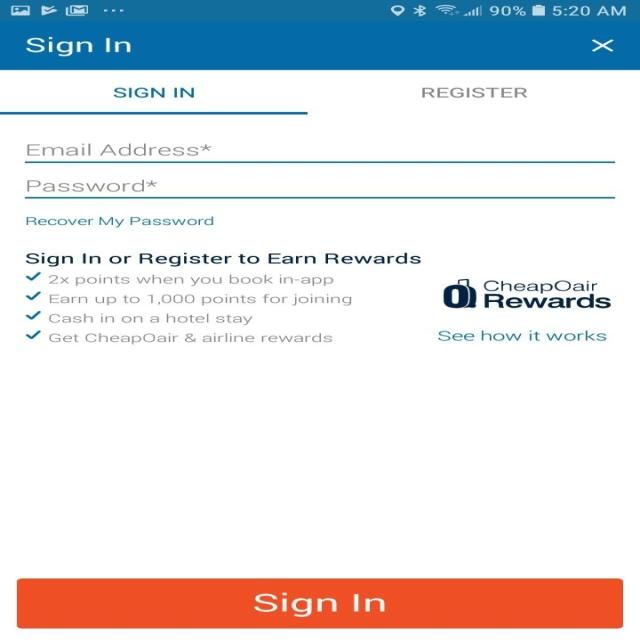EditText: (24, 179, 615, 199), (25, 143, 615, 163)
Icon: (590, 39, 614, 52), (26, 310, 42, 320), (25, 291, 41, 300), (26, 330, 42, 339), (26, 272, 42, 280)
Image: (442, 278, 476, 308)
Text: (24, 252, 420, 267), (49, 293, 351, 306), (49, 332, 332, 345), (482, 280, 610, 308), (48, 274, 334, 286), (48, 313, 254, 325), (27, 143, 212, 156), (25, 36, 131, 56), (25, 217, 214, 227), (438, 330, 606, 341), (421, 87, 527, 98), (114, 87, 194, 98)
TextButton: (16, 578, 622, 628)
